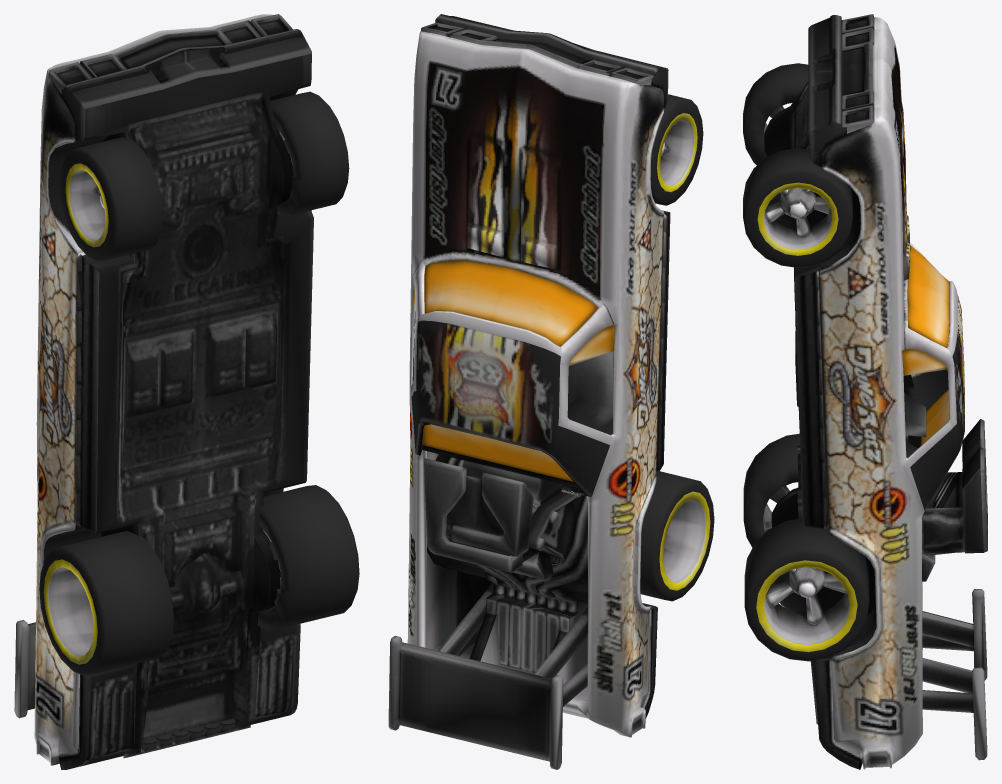
The model's file is elcamino.glb.
The picture shows the model from 3 angles, left to right: view 1: azimuth 30°, elevation 25°; view 2: azimuth 150°, elevation 25°; view 3: azimuth 270°, elevation 25°; orthographic projection. The views are drawn at different scales.
Visible parts, largest first — view 1: Body, wheel_rr, wheel_rl, wheel_fr, wheel_fl; view 2: Body, windshield, wheel_rr, wheel_fr; view 3: Body, wheel_rl, wheel_fl, windshield, wheel_rr, wheel_fr.
Part boxes in pixels (x1,y1,x2,y2): Body: (14,14,313,769); wheel_rr: (39,531,173,675); wheel_rl: (257,485,359,630); wheel_fr: (59,137,162,261); wheel_fl: (270,91,349,216); Body: (388,14,670,769); windshield: (414,260,614,481); wheel_rr: (640,471,714,601); wheel_fr: (650,94,703,205); Body: (764,14,987,769); wheel_rl: (744,518,869,661); wheel_fl: (743,148,852,267); windshield: (902,245,949,444); wheel_rr: (743,433,799,547); wheel_fr: (743,63,808,165).
Bounding box in the file's own units: 2.42 × 6.32 × 2.12.
2 materials, 2 textured.
